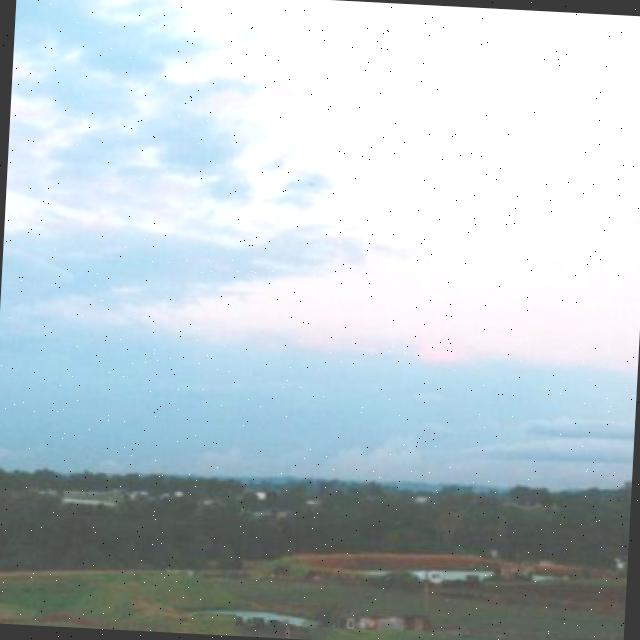Sc: (1, 1, 427, 348)
